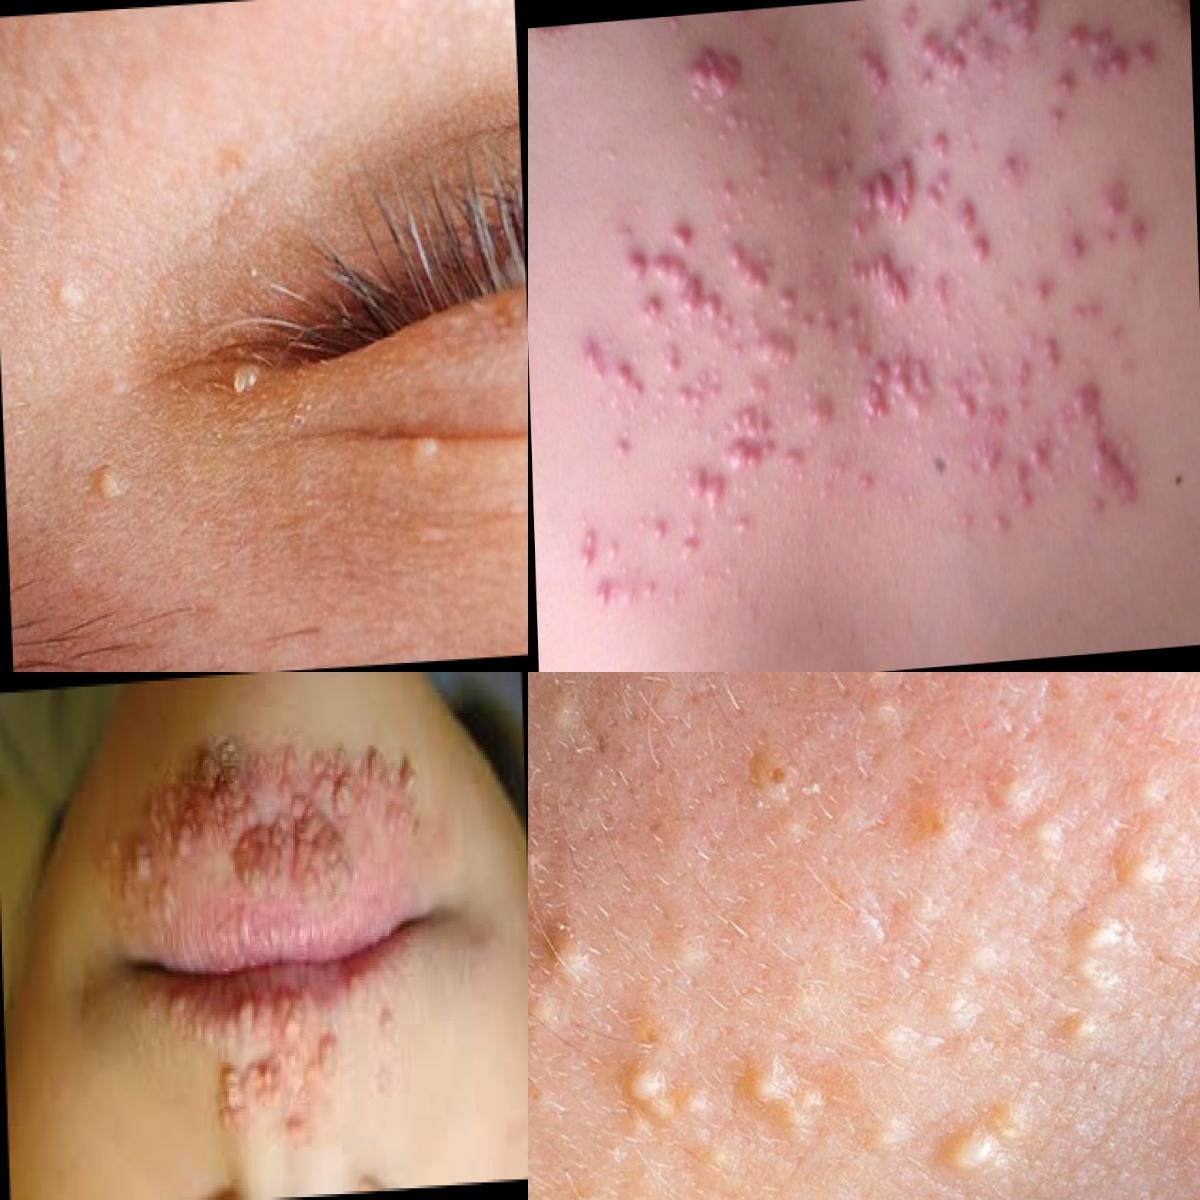flat_wart: (103, 725, 430, 938), (189, 990, 412, 1160), (351, 390, 479, 516), (59, 415, 168, 551)
keloid: (651, 241, 727, 333), (844, 251, 916, 316), (718, 404, 779, 475), (684, 41, 738, 107), (719, 234, 773, 300), (1092, 436, 1140, 511), (851, 167, 904, 223), (752, 325, 802, 384), (860, 359, 892, 429), (1065, 381, 1105, 432)
milium: (960, 744, 1200, 905), (1042, 902, 1170, 1073), (529, 815, 609, 1036), (737, 1024, 827, 1195), (585, 1035, 710, 1148), (916, 1090, 1058, 1190)
papular: (613, 358, 652, 412), (1116, 214, 1155, 264), (575, 520, 602, 575), (579, 337, 605, 384), (590, 577, 619, 618), (957, 197, 981, 241), (968, 235, 995, 273)
sebo-crystan-conglo: (976, 434, 1055, 542), (1065, 13, 1127, 86), (909, 29, 975, 91), (948, 371, 1009, 438), (889, 349, 937, 426), (1009, 329, 1062, 392), (675, 363, 727, 416), (680, 464, 727, 523), (836, 303, 875, 371), (986, 1, 1041, 46), (891, 146, 919, 233), (855, 47, 899, 99), (804, 382, 842, 438), (924, 173, 955, 216), (927, 121, 952, 167), (641, 291, 660, 331)
whitehead: (727, 464, 771, 511), (756, 181, 795, 227), (936, 324, 962, 374)
